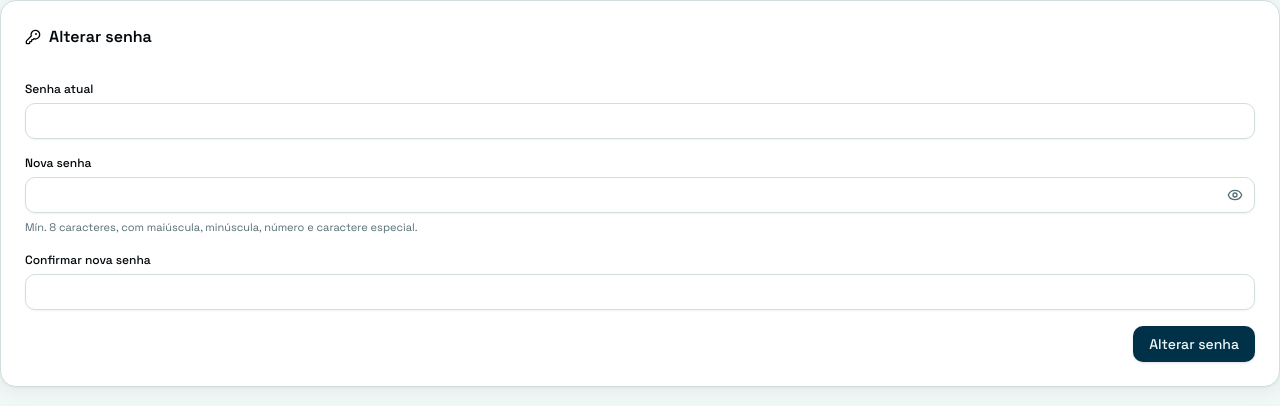
ChangePasswordCard › submits a valid password change and clears the form on success
Type "Old@Pass123" into the password field labelled "Senha atual" at (640, 121), box [25,103,1255,139]
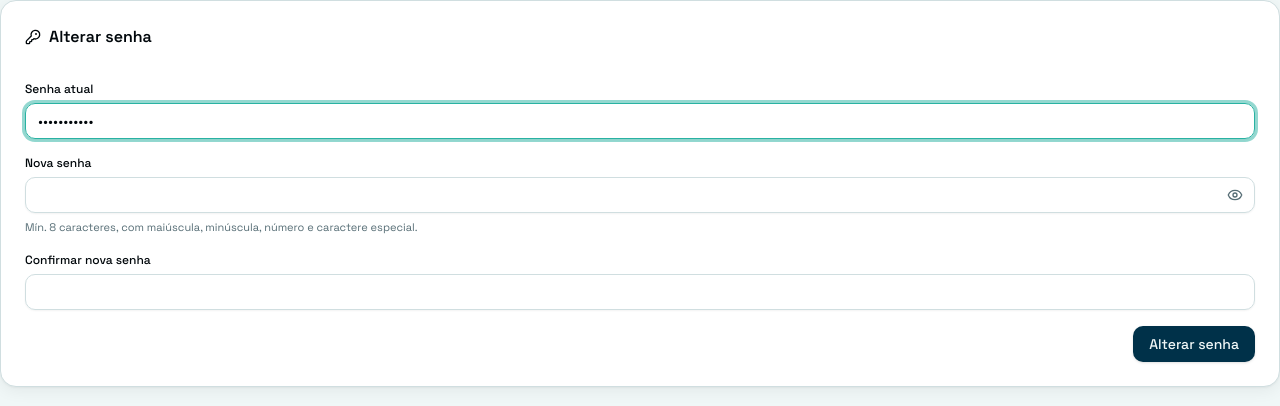
Type "N3w@Str0ngPass" into the password field labelled "Nova senha" at (640, 195), box [25,177,1255,213]
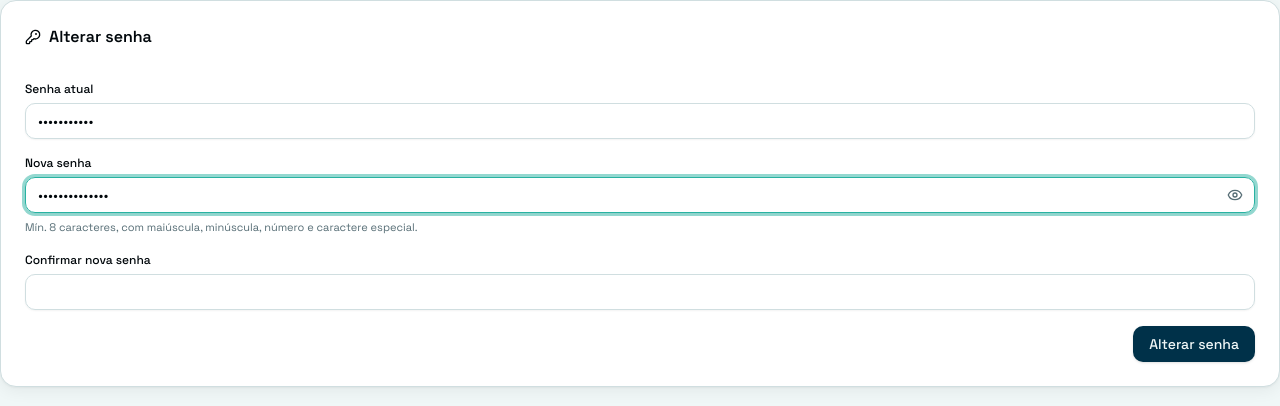
Type "N3w@Str0ngPass" into the password field labelled "Confirmar nova senha" at (640, 292), box [25,274,1255,310]
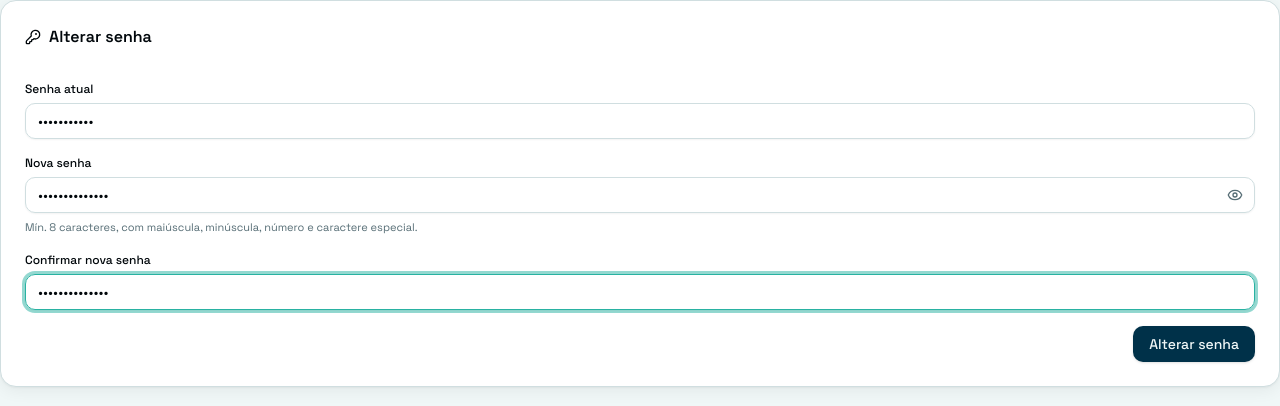
Click the button "Alterar senha" at (1194, 344), box [1133,326,1255,362]
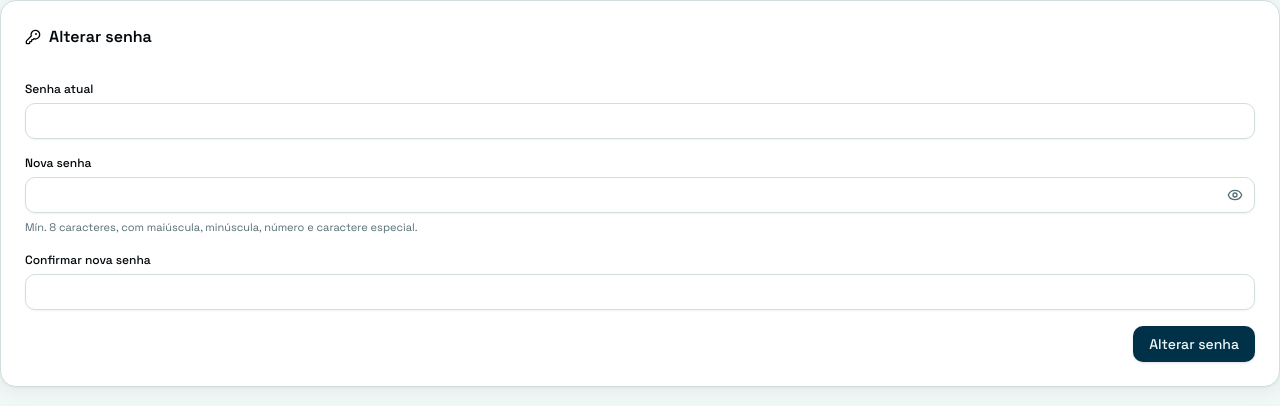
expect the password field labelled "Senha atual" is empty: met, box [25,103,1255,139]
expect the password field labelled "Nova senha" is empty: met, box [25,177,1255,213]
expect the password field labelled "Confirmar nova senha" is empty: met, box [25,274,1255,310]
